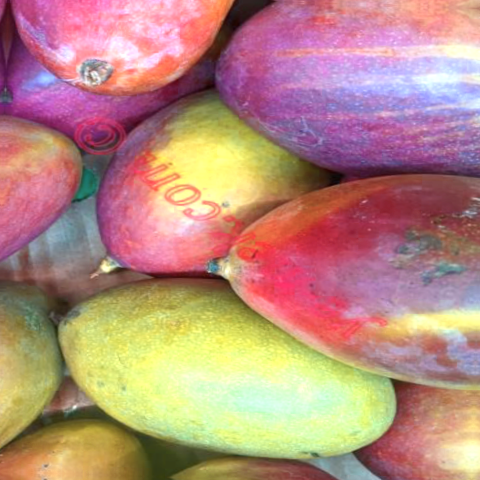mango: (14, 269, 419, 467), (197, 153, 480, 400), (46, 80, 342, 300), (159, 0, 480, 194)
